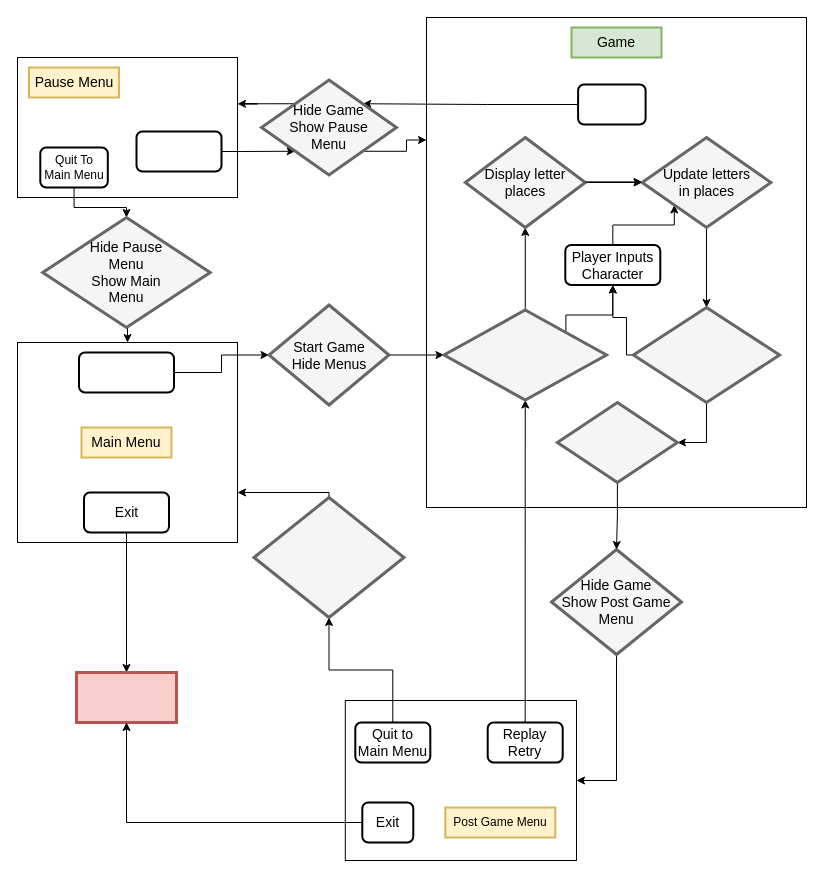
Some shapes in this 824 by 878 pixel diagram are drawn without their labels. Each missing label, with the centre of its shape:
Choose word from collection: (525,354)
Exit Game: (126,697)
Finish Game: (616,442)
Hide Post Game Menu Show Main Menu: (328,557)
Pause: (611,104)
Play: (126,372)
Resume: (178,151)
Update Hangman graphic: (706,355)
